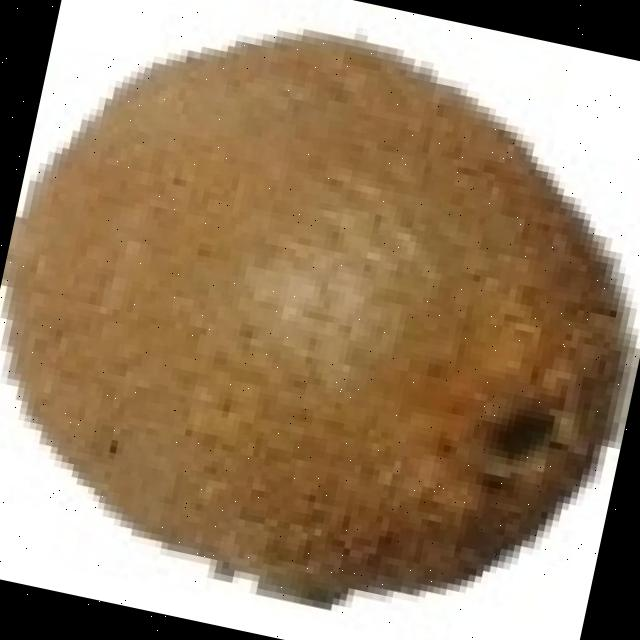kiwi: (4, 24, 617, 589)
